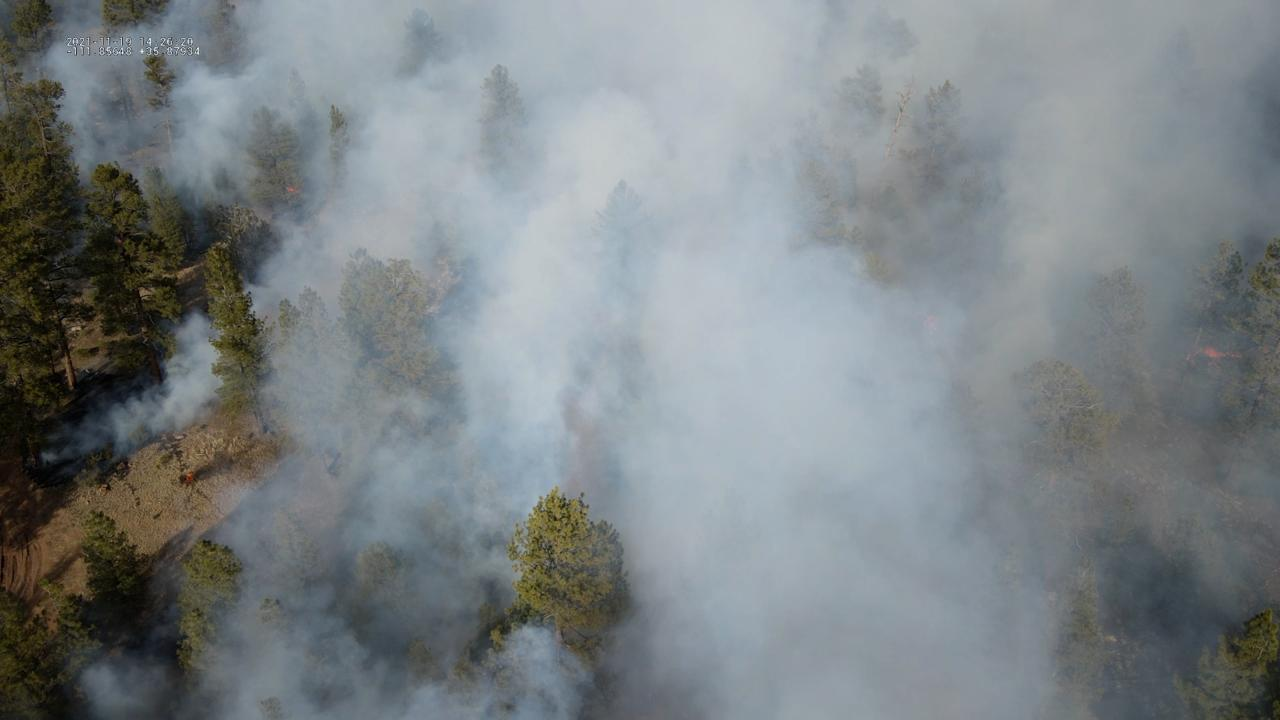fire: (1184, 345, 1241, 362), (184, 472, 195, 481), (286, 187, 296, 194)
smoke: (0, 0, 1280, 720)
